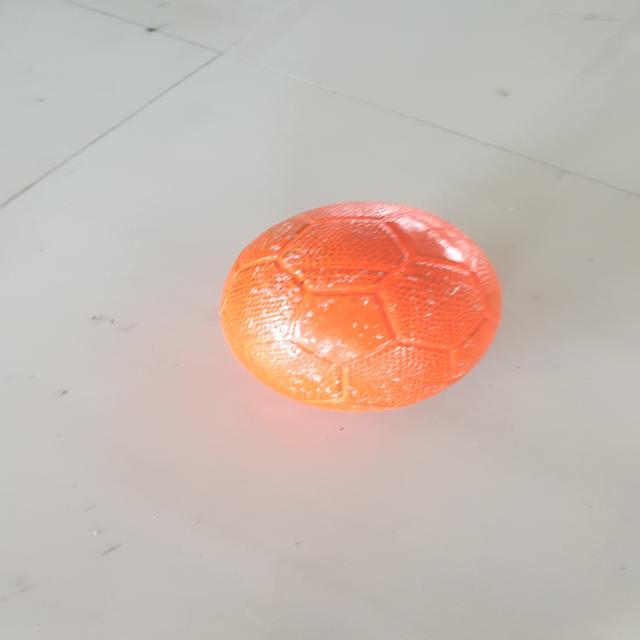bola: (220, 198, 502, 414)
